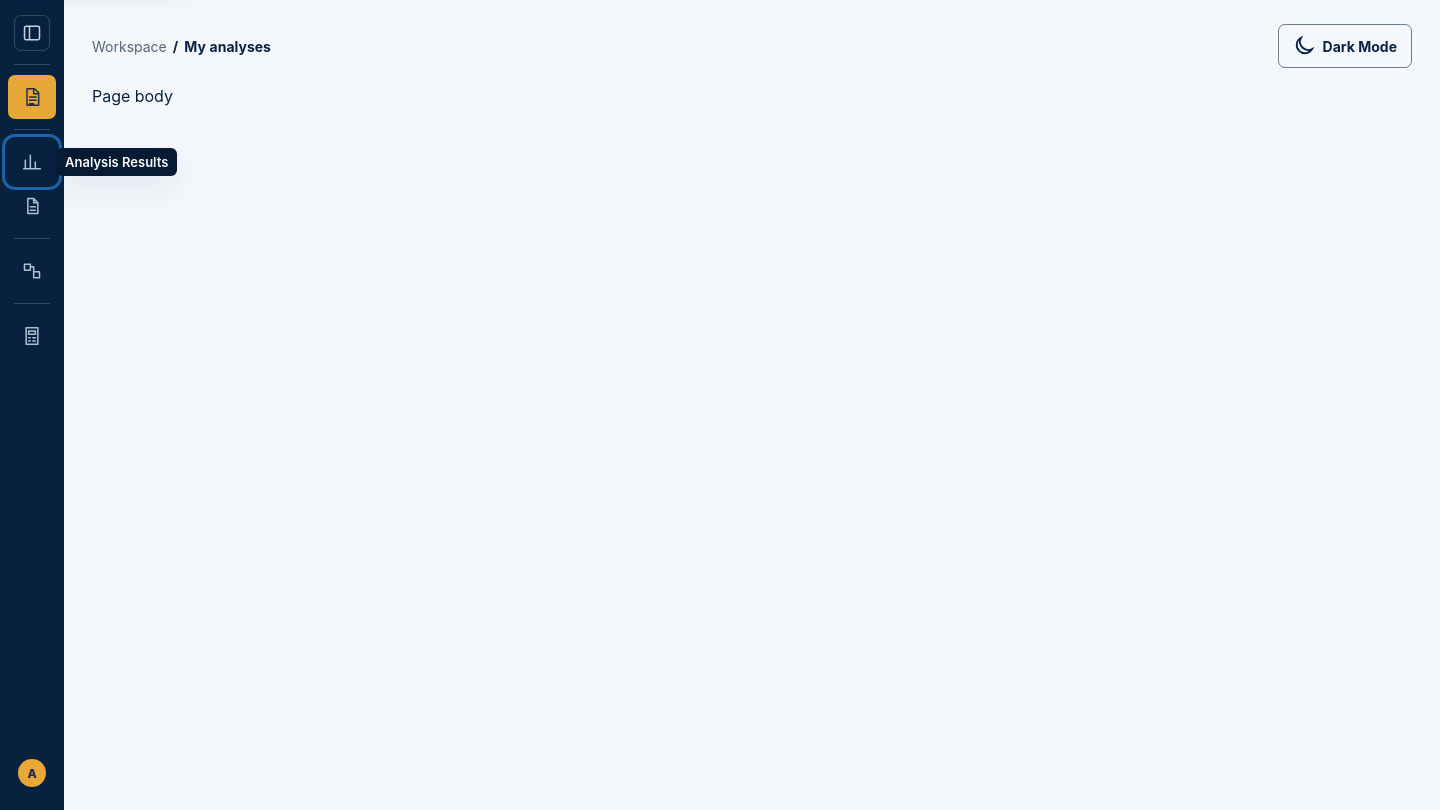
Scenario: AppLayout hide-sidebar (D10) › shows rail names on keyboard focus and hover, and Escape dismisses them
expect the text with test id "tooltip" reads "Analysis Results": met, box [65,154,168,170]
Press Escape
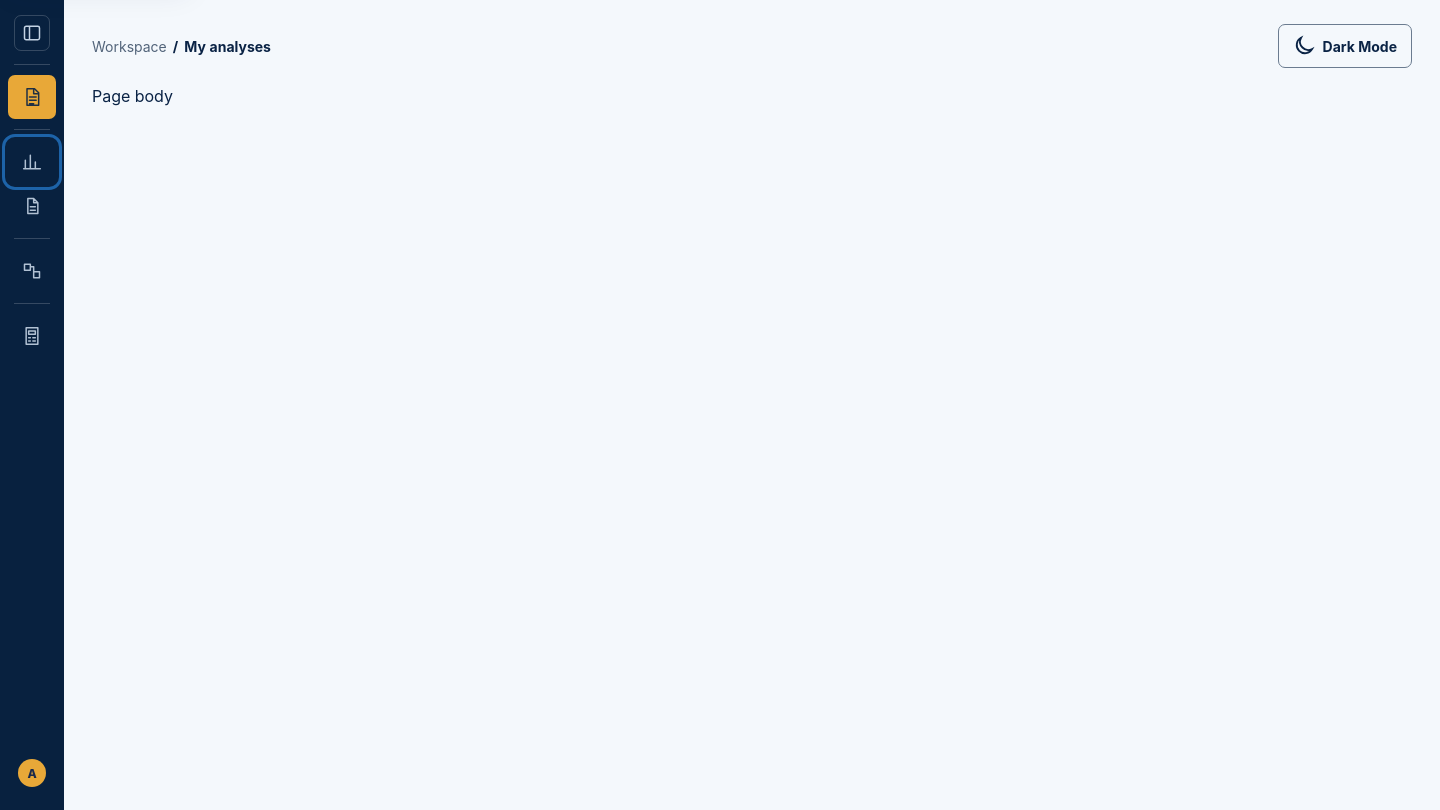
expect the text with test id "tooltip" is gone: met
Hover over the link named "Quick Calculator" at (32, 336), box [22,326,42,346]
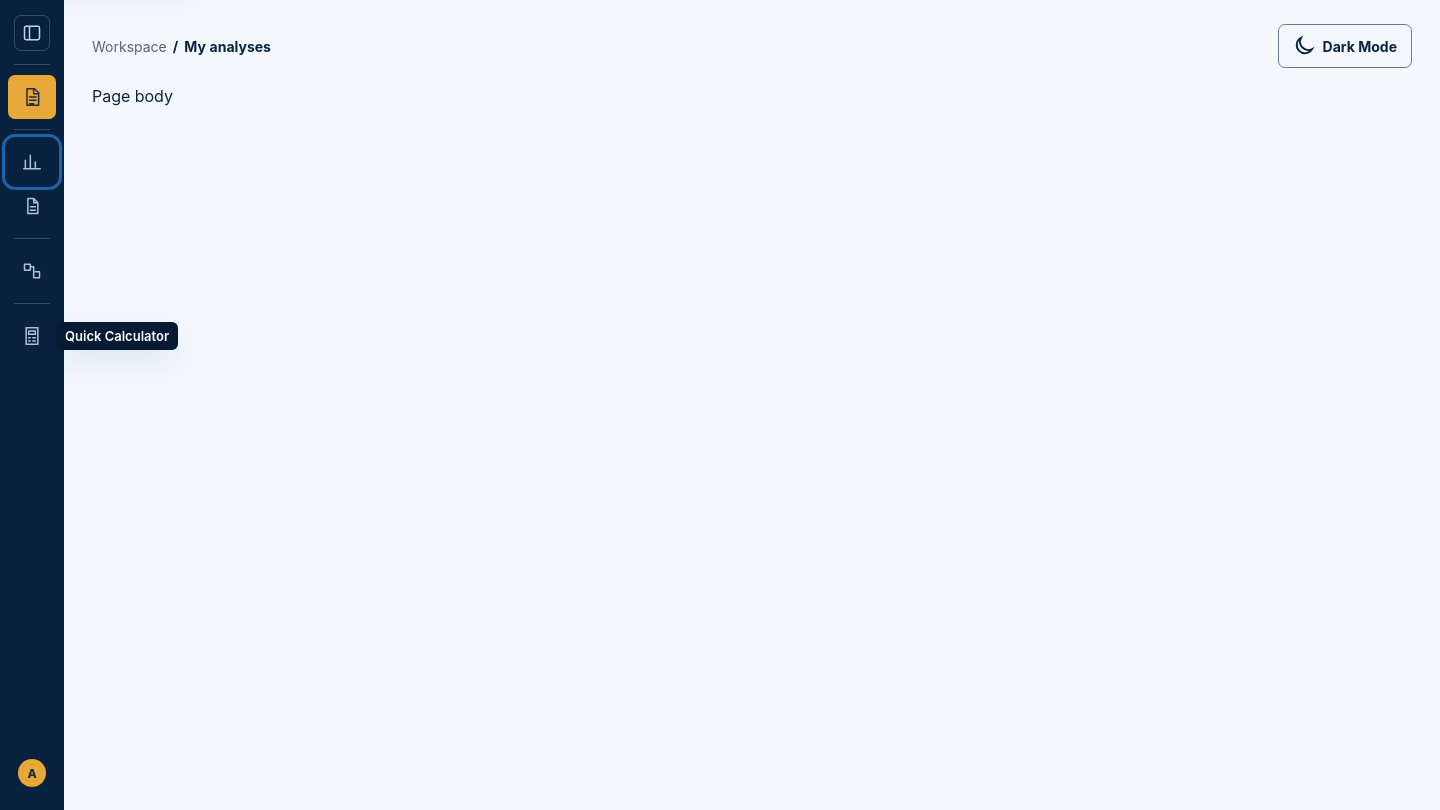
expect the text with test id "tooltip" reads "Quick Calculator": met, box [65,328,169,344]
Move the pointer off the link named "Quick Calculator", box [22,326,42,346]
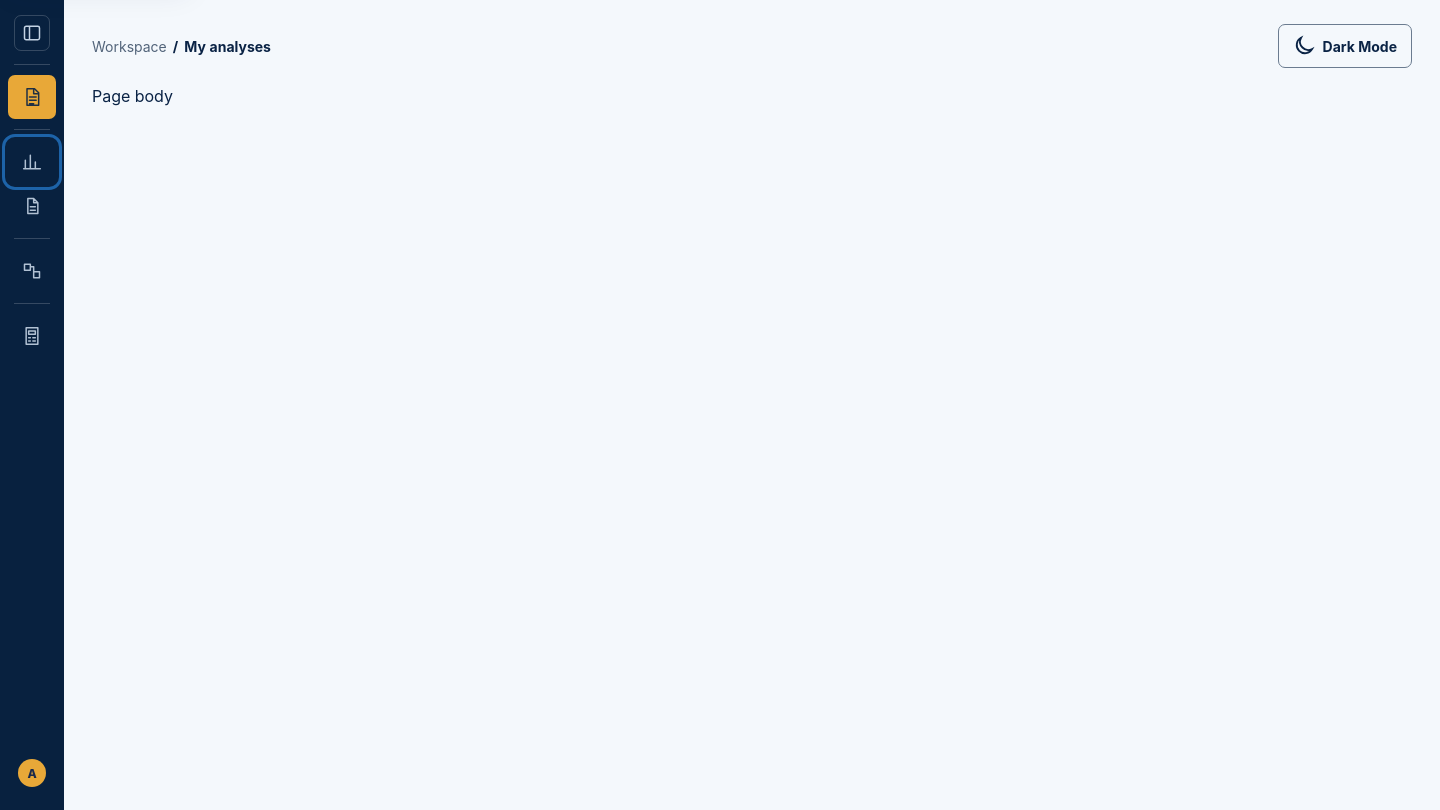
expect the text with test id "tooltip" is gone: met
